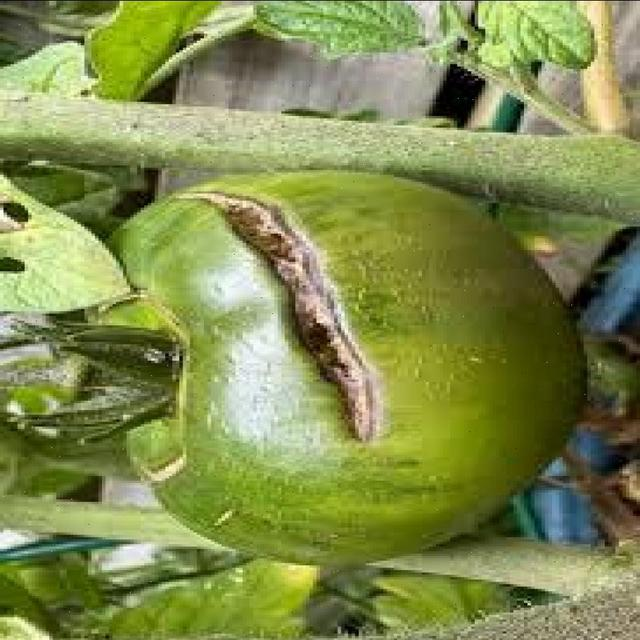Cracking Fruit: (64, 148, 196, 262)
